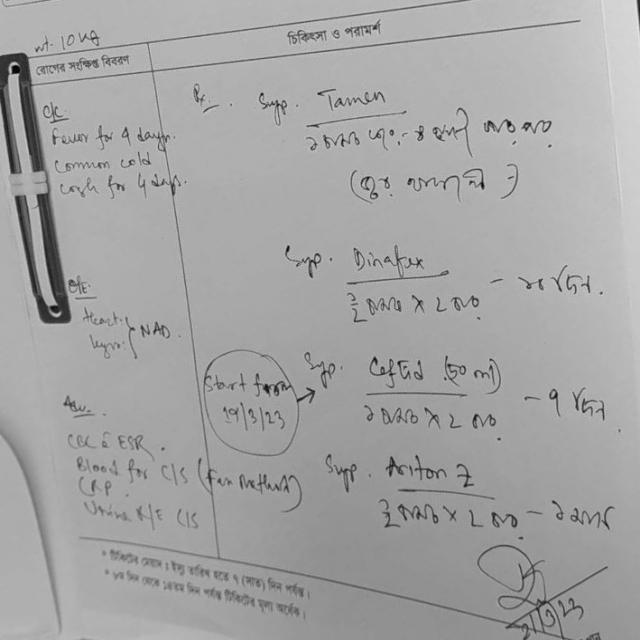medicine: (378, 442, 481, 490), (342, 239, 430, 276), (360, 350, 428, 390), (310, 85, 393, 115)
